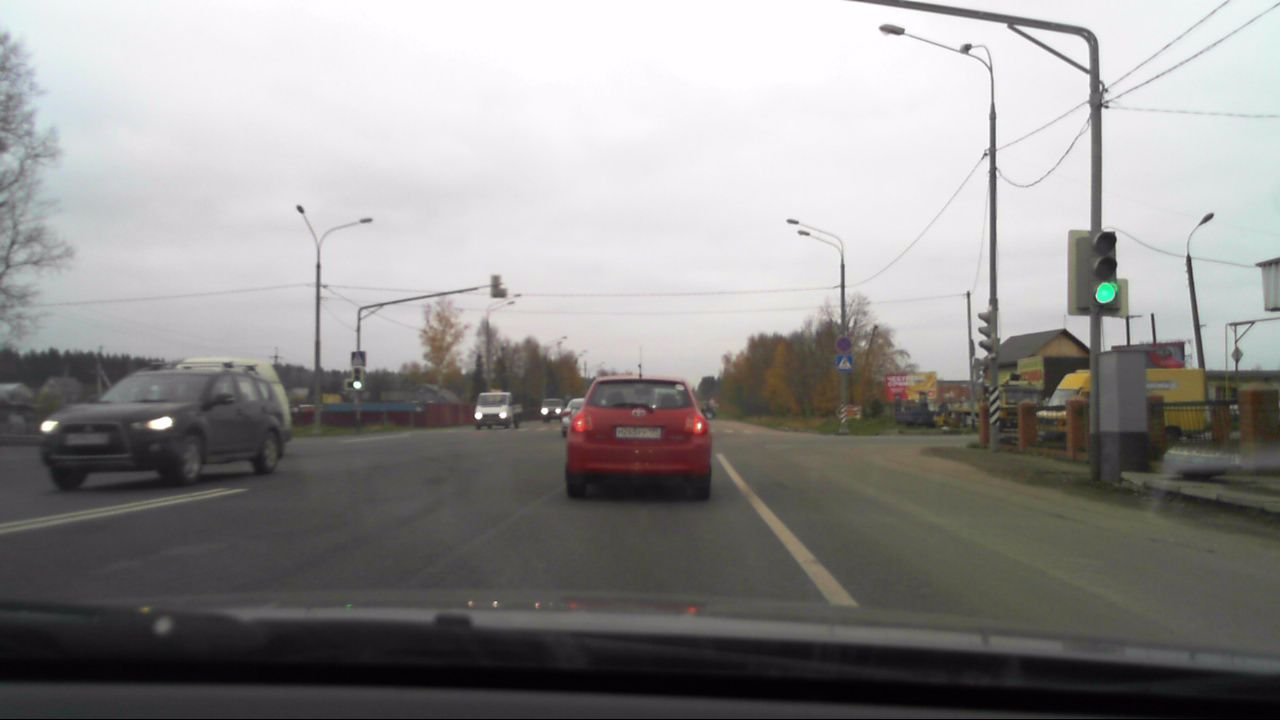No Parking: (833, 336, 851, 354)
